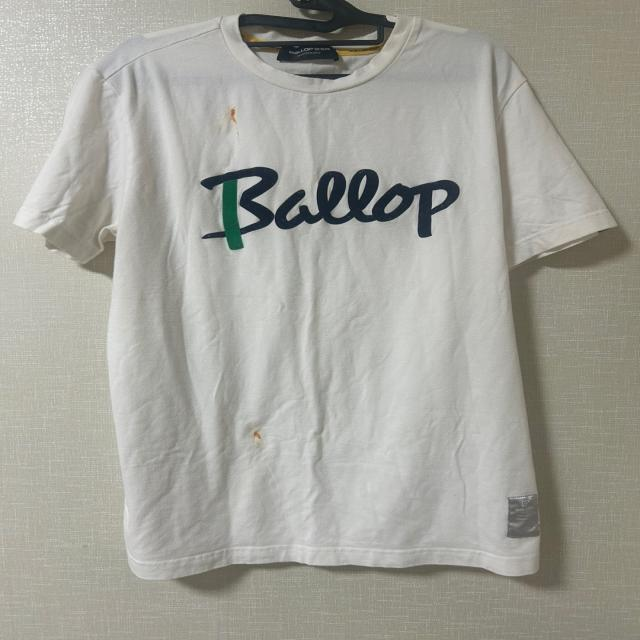stain: (250, 426, 270, 455), (228, 106, 246, 126)
